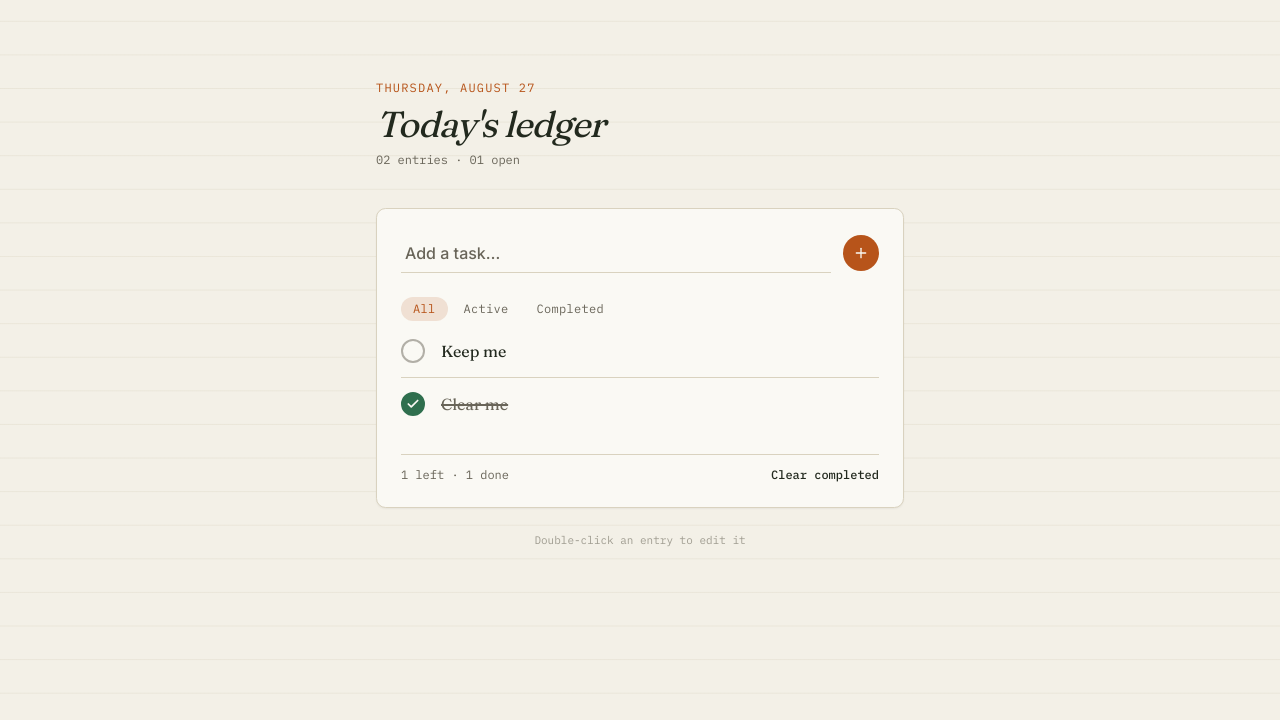
Test: Todo app integration (Page + useTodos + api.ts, network mocked) › clears completed todos end-to-end, leaving active ones
Expected: the text "Clear me" is shown, x1=441 y1=394 x2=508 y2=414
Click the button "Clear completed".
click(825, 475)  # box x1=771 y1=467 x2=879 y2=483
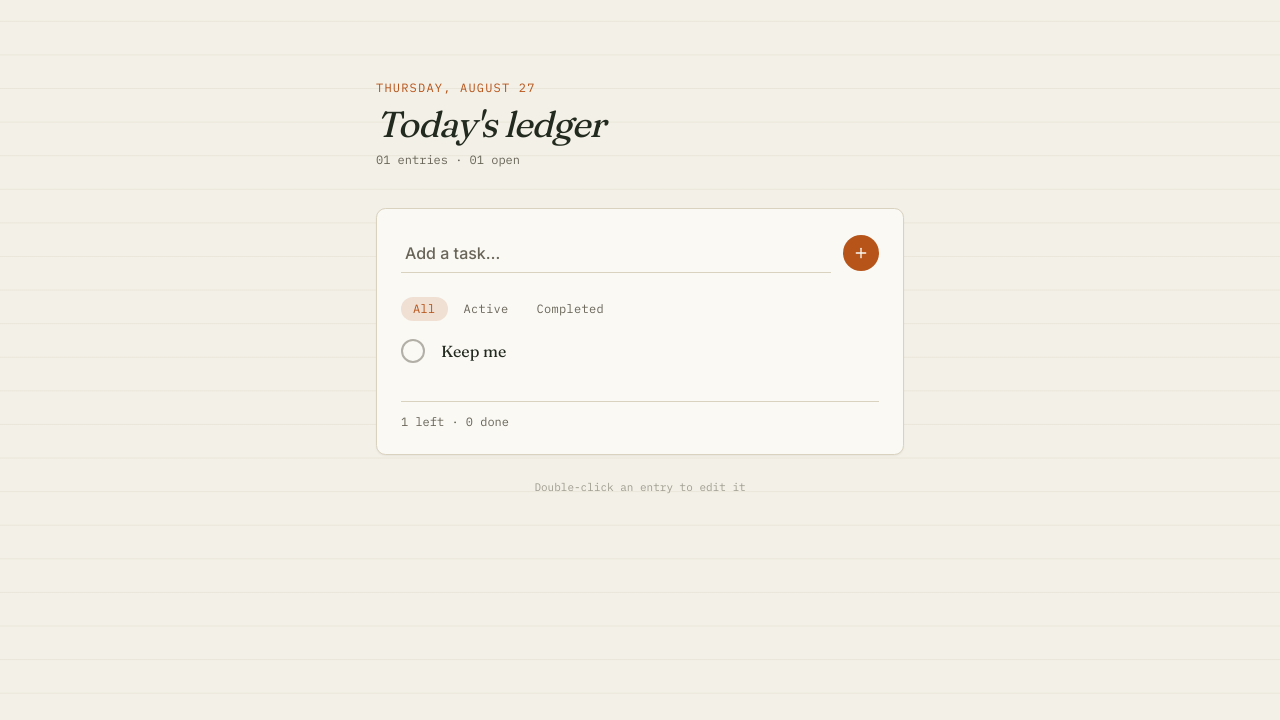
Expected: the text "Keep me" is shown, x1=441 y1=341 x2=506 y2=361
Result: the text "Clear me" is gone
